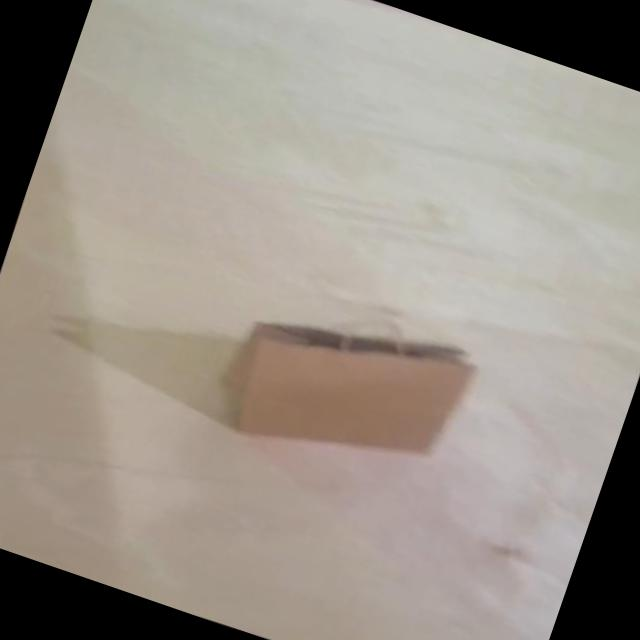Kardus: (34, 221, 483, 505)
